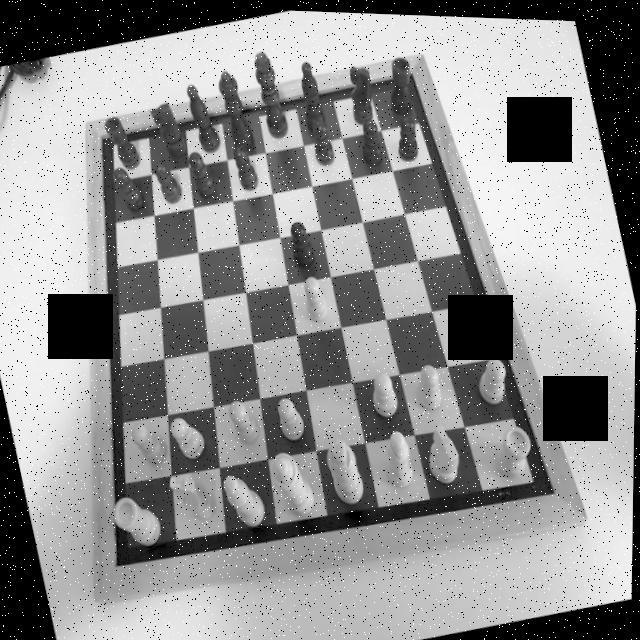chess-table-corners: (99, 543, 133, 574), (540, 470, 568, 500), (87, 121, 113, 145), (398, 56, 419, 80)
